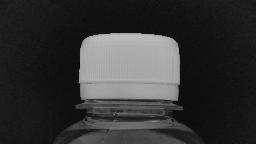Good Cap: (72, 31, 188, 114)
